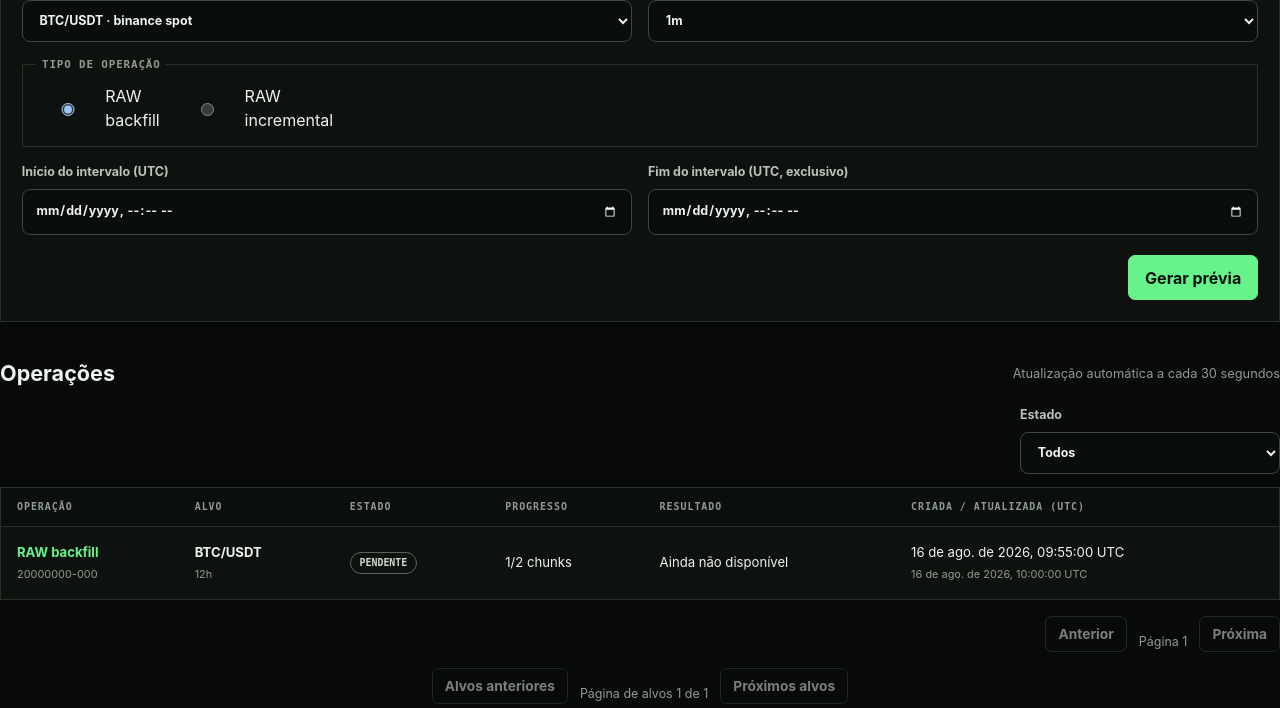
Test case: MarketOperationsPage › expõe a matriz completa de controles para PENDING
The width and height of the screenshot is (1280, 708).
(page scrolled)
What coordinates should you click on to do the following:
click the button with aria-label "Inspecionar RAW backfill BTC/USDT 12h"
I would click on:
 (58, 553)
Its box is [17,543,98,562].
(page scrolled)
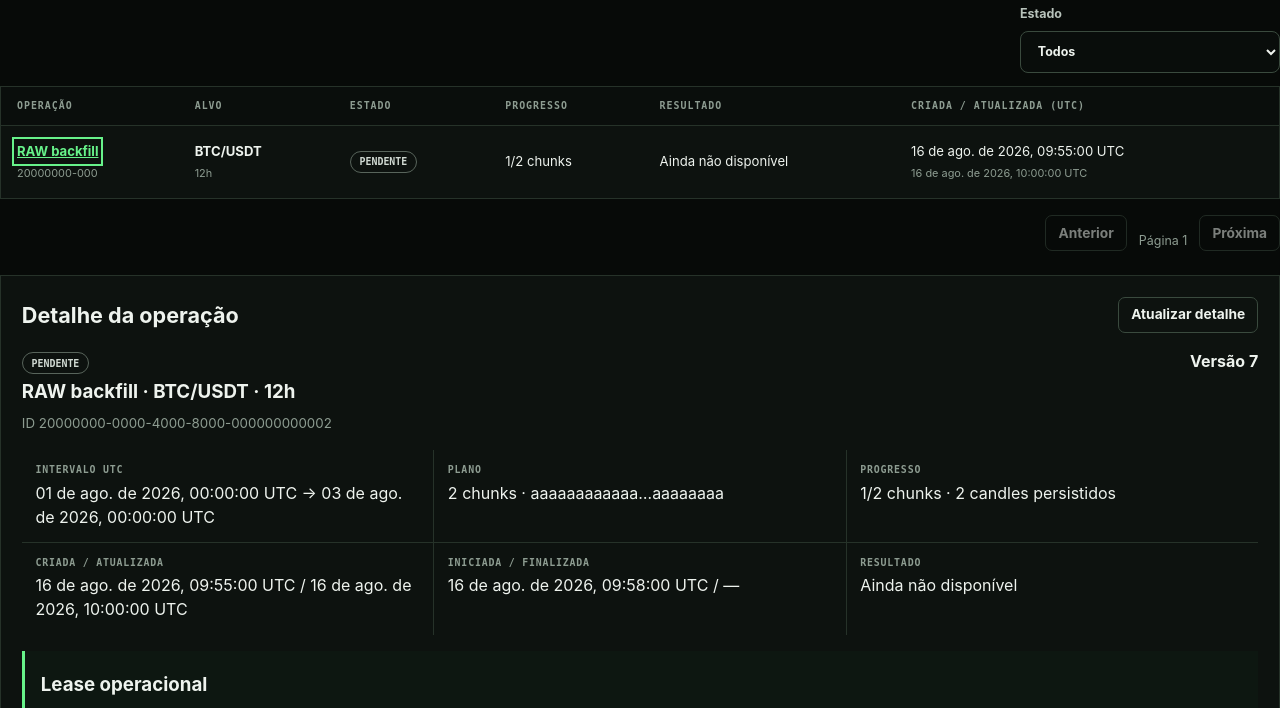
Result: the text "Versão 7" is shown at [1190,349,1258,373]
